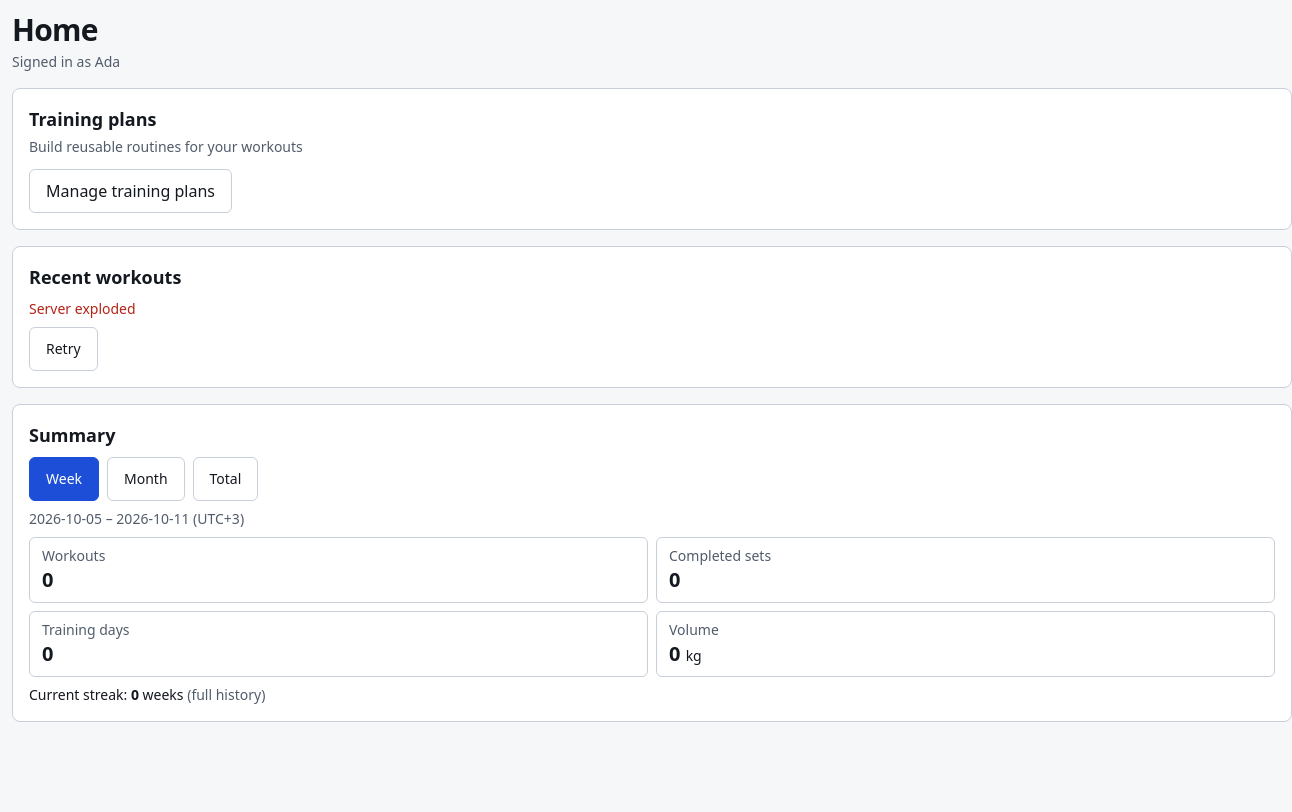
Test: HomeRoute reads › isolates a failed panel and retries it without touching the others
Expected: the message reads "Server exploded", x1=29 y1=299 x2=136 y2=318
Expected: the text "Workouts" is shown, x1=42 y1=546 x2=105 y2=565
Click the button "Retry".
click(63, 349)  # box x1=29 y1=327 x2=98 y2=371
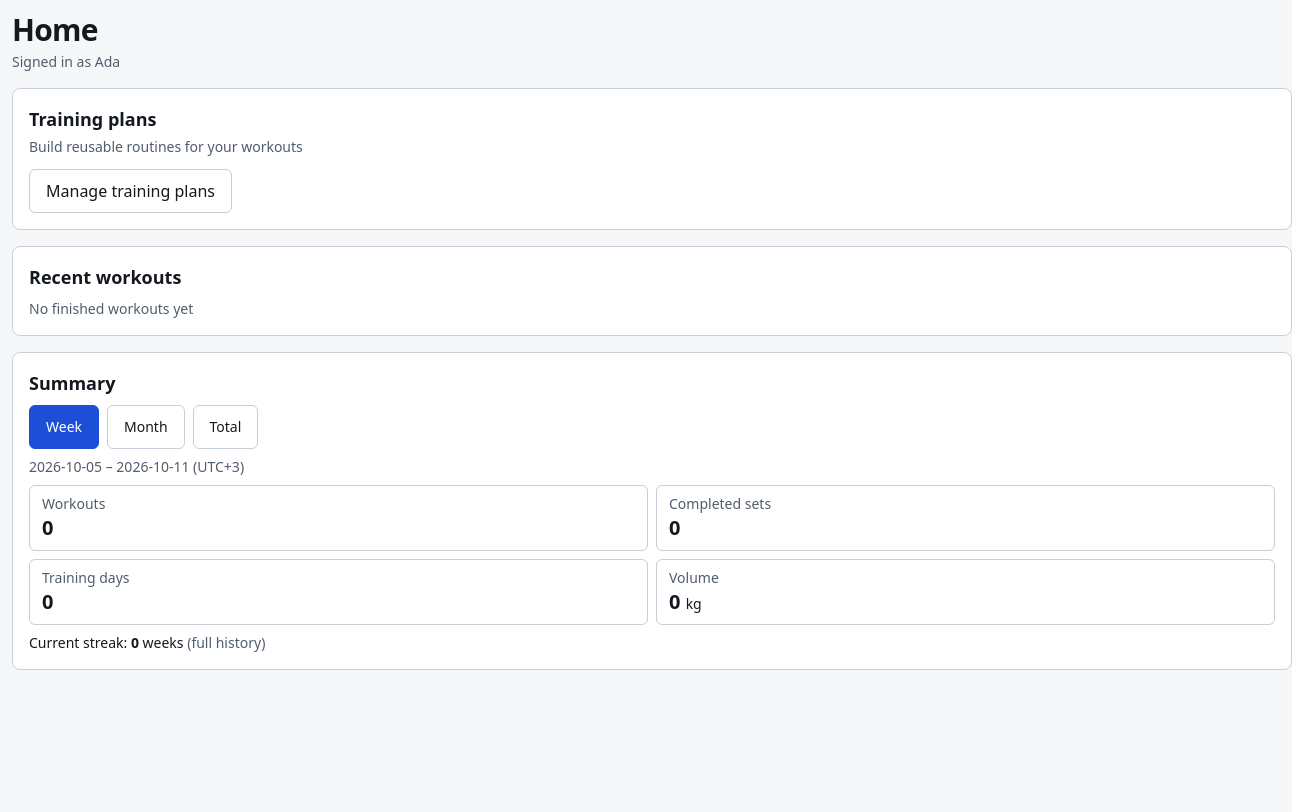
Now the text "No finished workouts yet" is shown, box x1=29 y1=299 x2=193 y2=318
